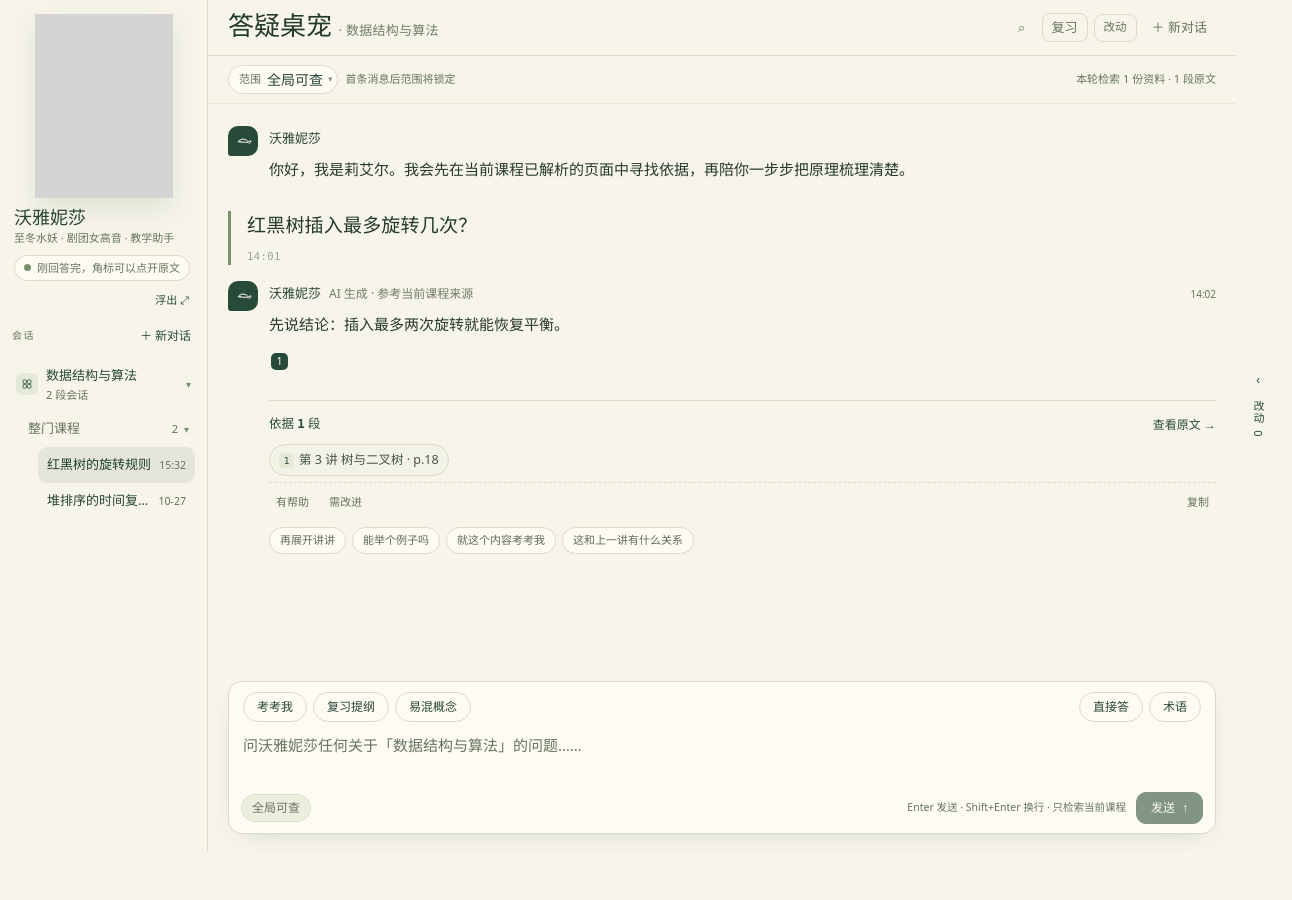
it: 回答卡可以复制正文，复制后按钮变成「已复制」
Click the button "复制" at (1198, 502), box [1180,490,1216,514]
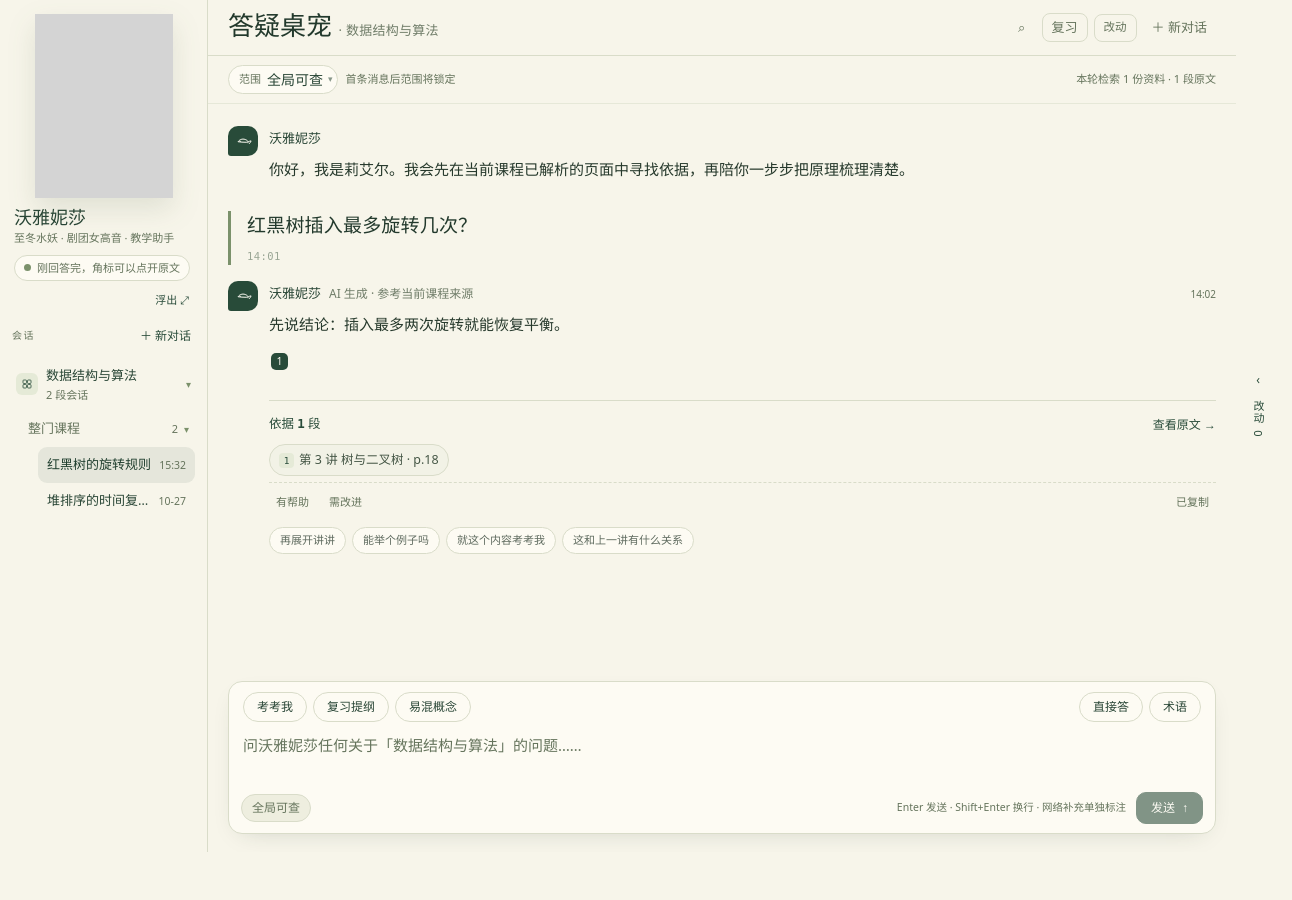
Check: the button "已复制" is shown, box [1169,490,1216,514]
